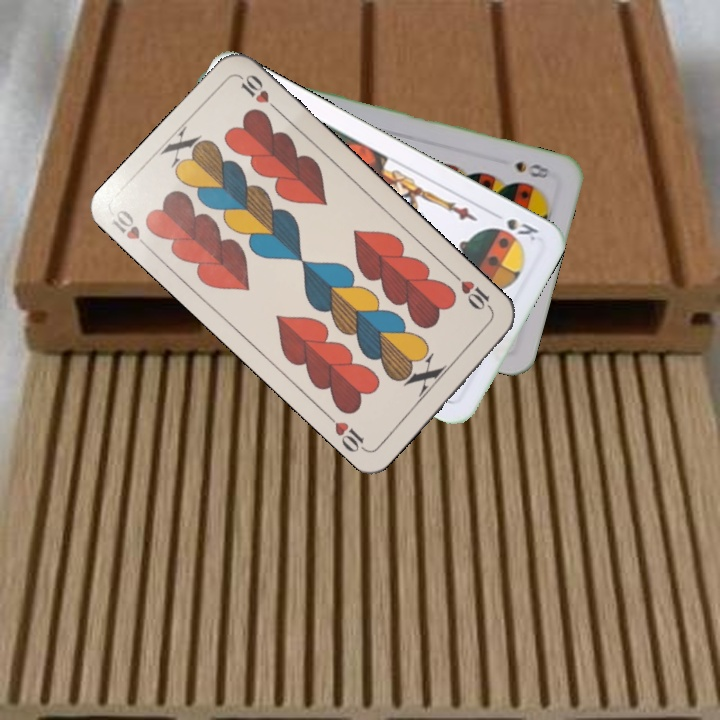H10: (107, 205, 155, 255), (449, 270, 497, 316)
S8: (511, 157, 554, 181)
SK: (487, 207, 541, 244)
